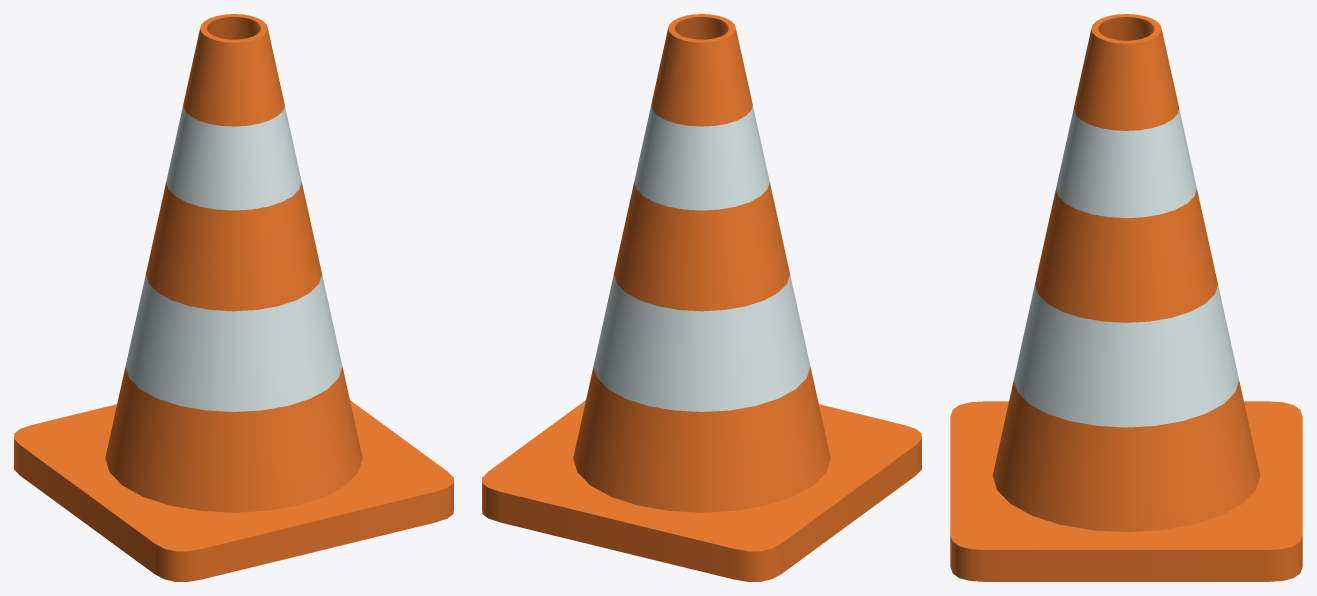
3 views of the same model, side by side, from view 1: azimuth 30°, elevation 25°; view 2: azimuth 150°, elevation 25°; view 3: azimuth 270°, elevation 25° (orthographic). The views are drawn at different scales.
Visible parts, largest first — view 1: Box001; view 2: Box001; view 3: Box001.
Boxes of the visible parts, left/top/right/bottom form: Box001: left=14, top=14, right=453, bottom=581; Box001: left=482, top=14, right=921, bottom=581; Box001: left=950, top=14, right=1302, bottom=581.
Bounding box in the file's own units: 9.84 × 14.76 × 9.84.
1 material, 1 textured.
